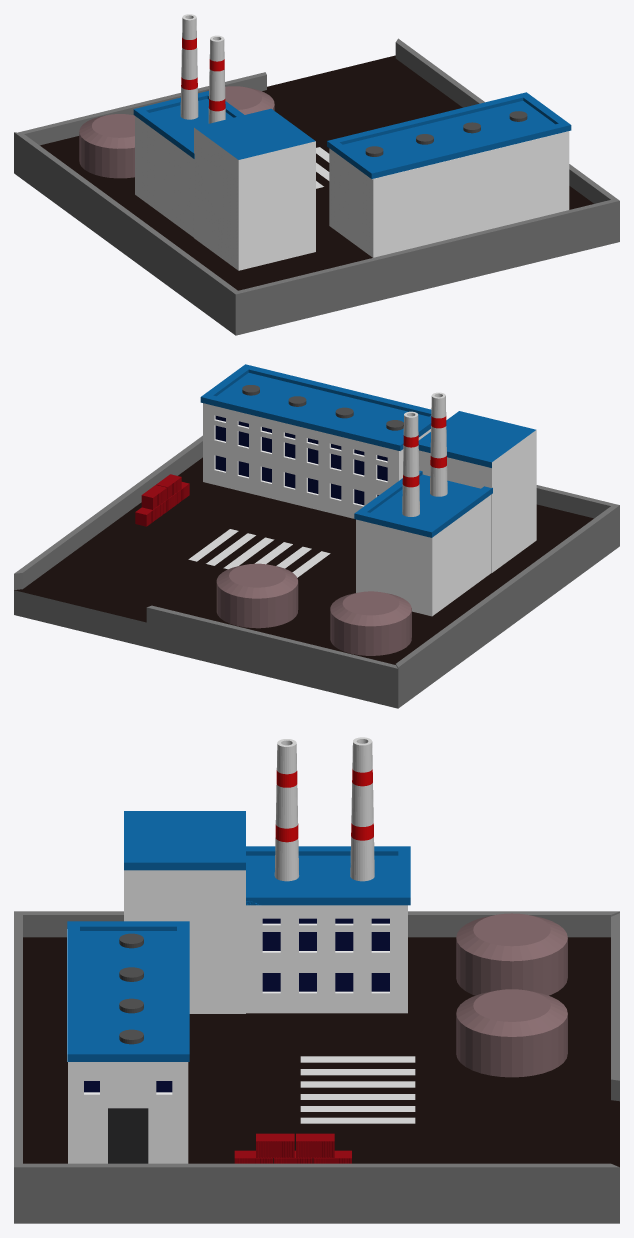
The model's file is armazem.glb.
The picture shows the model from 3 angles, top to bottom: view 1: azimuth 30°, elevation 25°; view 2: azimuth 150°, elevation 25°; view 3: azimuth 270°, elevation 25°; orthographic projection. The views are drawn at different scales.
Parts seen in each view (by area): view 1: Cube.001, Building, Cube, Roof1, Building.001, Cylinder.010, Roof1.001, Cylinder.007, Cylinder.008, Cylinder.001; view 2: Cube.001, Building, Building.001, Cube, Roof1, Cylinder.001, Cylinder.010, Roof1.001, Cylinder.007, Cylinder.008, Cube.006; view 3: Cube.001, Cube, Building.001, Roof1, Building, Cylinder.001, Roof1.001, Cylinder.010, Cylinder.007, Cylinder.008, Cube.005, Cube.006.
Boxes of the visible parts, x1,y1,x2,y2 form: Cube.001: [14, 38, 619, 335]; Building: [329, 130, 570, 257]; Cube: [194, 108, 315, 270]; Roof1: [327, 92, 571, 178]; Building.001: [135, 116, 193, 237]; Cylinder.010: [79, 114, 134, 178]; Roof1.001: [133, 91, 243, 158]; Cylinder.007: [180, 14, 198, 119]; Cylinder.008: [208, 35, 225, 123]; Cylinder.001: [206, 86, 274, 114]; Cube.001: [14, 435, 619, 708]; Building: [203, 403, 430, 518]; Building.001: [356, 495, 491, 616]; Cube: [418, 411, 536, 572]; Roof1: [200, 364, 431, 450]; Cylinder.001: [216, 563, 298, 628]; Cylinder.010: [330, 591, 411, 655]; Roof1.001: [354, 470, 492, 537]; Cylinder.007: [402, 411, 419, 516]; Cylinder.008: [430, 392, 447, 496]; Cube.006: [141, 485, 167, 509]; Cube.001: [14, 911, 619, 1223]; Cube: [124, 811, 245, 1013]; Building.001: [246, 905, 407, 1013]; Roof1: [67, 921, 189, 1061]; Building: [67, 929, 188, 1163]; Cylinder.001: [456, 989, 567, 1077]; Roof1.001: [246, 846, 410, 905]; Cylinder.010: [456, 913, 567, 995]; Cylinder.007: [350, 737, 374, 881]; Cylinder.008: [274, 739, 299, 881]; Cube.005: [256, 1133, 294, 1157]; Cube.006: [296, 1133, 334, 1157].
Size of the model in its own units: 13.09 by 6.68 by 13.09.
